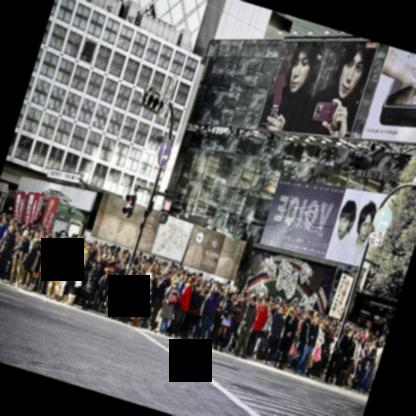backpack: (167, 281, 181, 305)
